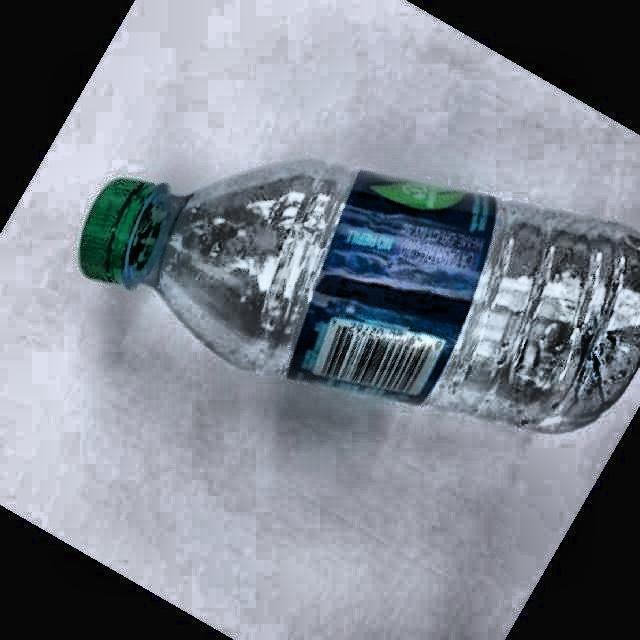plastic: (80, 160, 640, 431)
